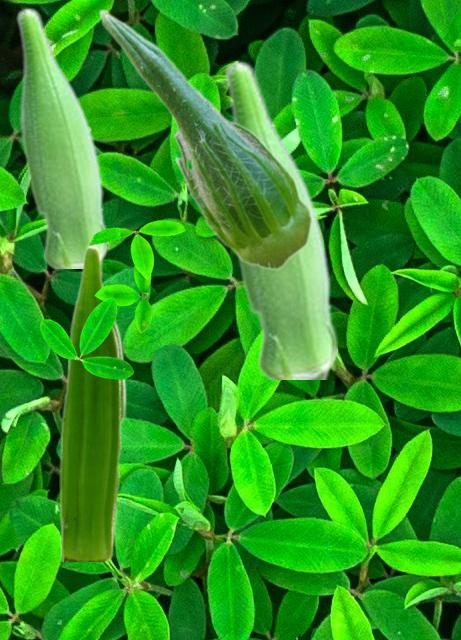okra: (98, 8, 312, 269), (223, 60, 336, 378), (15, 7, 107, 267), (59, 242, 126, 560)
